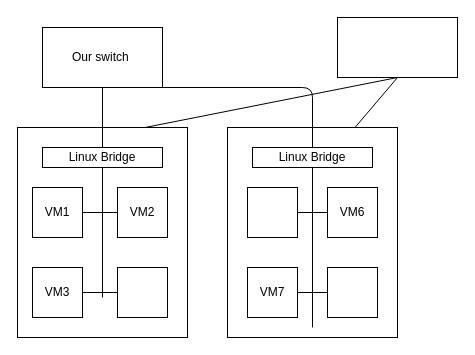
The diagram is 475 pixels wide and 355 high, and some of its shapes have lost their labels. Here are the shapes that lost their labels. From the top down, the centre of each, then its label:
At [397,47]: "Main switch".
At [272,212]: "VM5".
At [142,292]: "VM4".
At [352,292]: "VM8".
